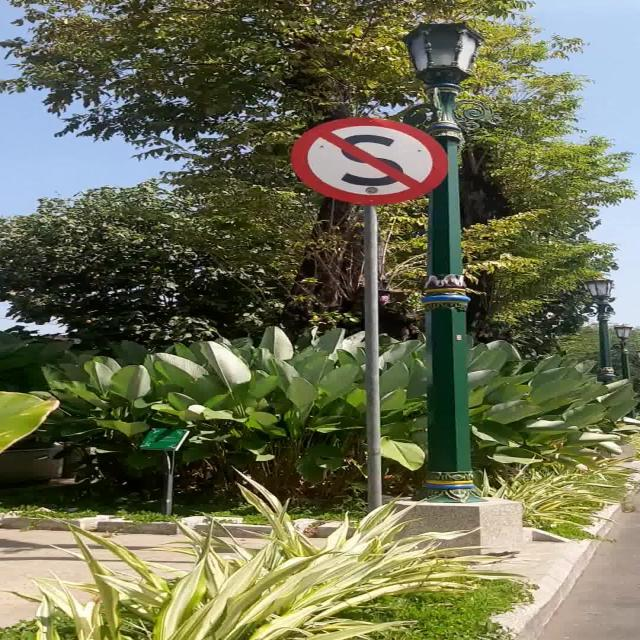Dilarang Berhenti: (291, 118, 448, 205)
